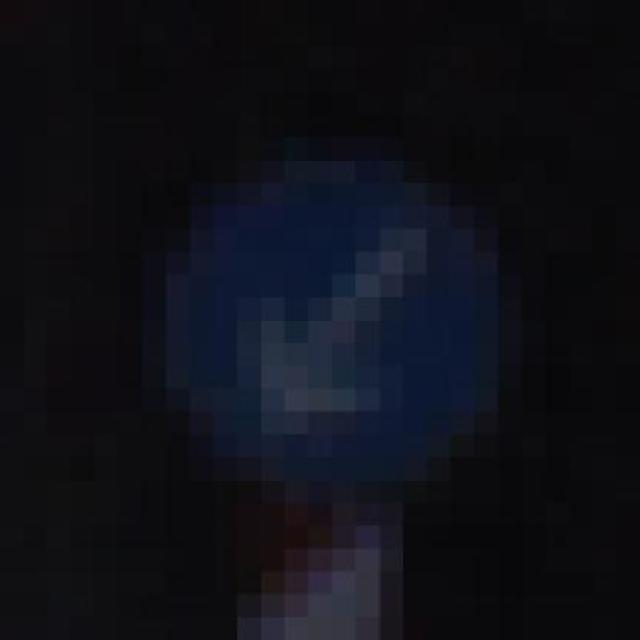Keep-Left: (142, 91, 546, 503)
